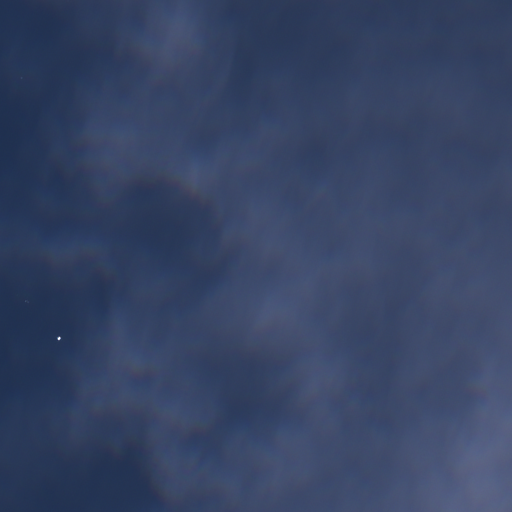Iceberg: (57, 336, 60, 340)
